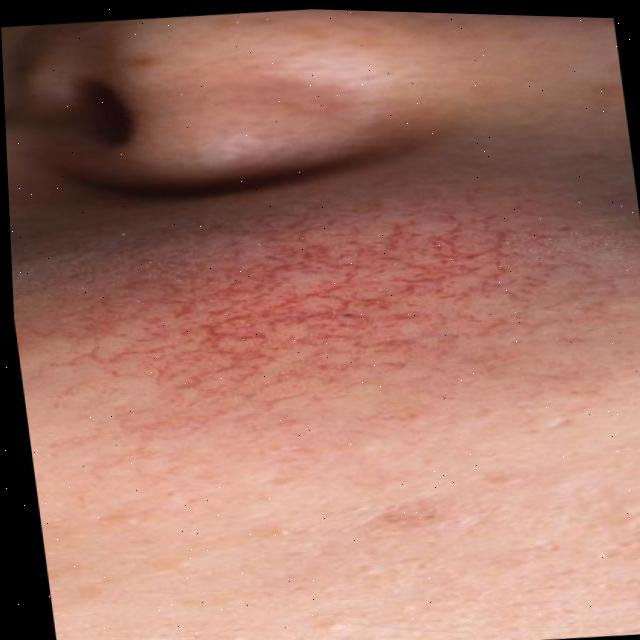Rosacea: (30, 173, 613, 487)
